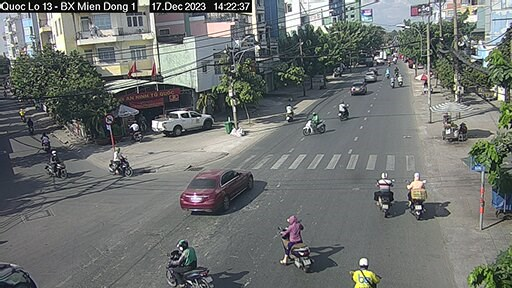car: (179, 166, 252, 215), (151, 110, 213, 137), (358, 65, 383, 82), (351, 80, 368, 98)
motorbike: (277, 220, 323, 276), (167, 250, 218, 287), (408, 181, 432, 218), (106, 152, 136, 181), (378, 180, 400, 217), (46, 152, 70, 177), (303, 116, 331, 137), (333, 97, 351, 120)
